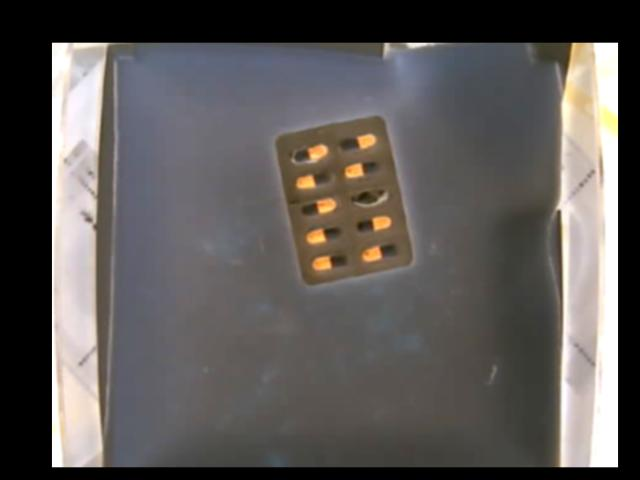Medicine: (276, 113, 414, 285)
